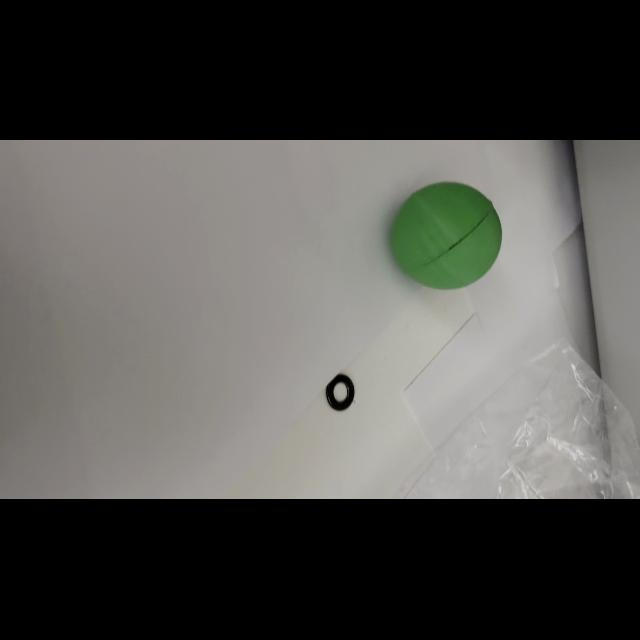objects: (387, 177, 507, 293)
